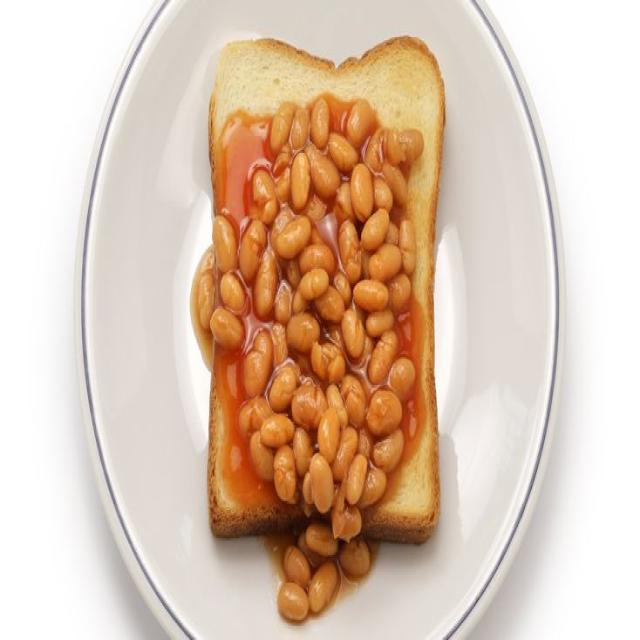beans: (243, 330, 272, 397), (306, 146, 340, 199), (253, 249, 278, 318), (239, 220, 266, 282), (292, 382, 327, 429), (368, 330, 398, 384), (367, 390, 401, 435), (275, 217, 311, 259), (252, 169, 279, 225), (309, 562, 338, 613), (311, 342, 346, 383), (332, 427, 358, 482), (211, 308, 245, 350), (339, 220, 361, 284), (213, 215, 237, 273), (310, 453, 333, 513), (243, 350, 272, 397), (239, 396, 272, 437), (269, 365, 298, 411), (373, 429, 403, 473), (347, 99, 375, 146), (274, 446, 297, 503), (350, 164, 373, 221), (286, 313, 319, 352), (270, 103, 295, 154), (341, 375, 366, 426), (318, 407, 340, 463), (278, 582, 309, 621), (340, 538, 370, 578), (369, 245, 402, 281), (291, 152, 311, 211), (361, 209, 389, 251), (329, 133, 358, 173), (299, 243, 335, 275), (341, 308, 364, 358), (260, 415, 294, 448), (306, 523, 338, 558), (250, 432, 273, 480), (382, 163, 407, 207), (284, 546, 310, 588), (389, 358, 415, 400), (359, 469, 387, 508), (354, 280, 388, 312), (315, 286, 344, 323), (332, 506, 361, 542), (347, 453, 367, 505), (270, 206, 295, 247), (220, 273, 245, 312), (326, 384, 348, 428), (293, 429, 313, 477), (399, 220, 416, 275), (198, 273, 214, 330), (298, 532, 324, 567), (311, 98, 329, 148), (299, 268, 328, 299), (334, 183, 355, 224), (389, 274, 410, 313), (365, 129, 383, 173), (274, 280, 292, 324), (400, 129, 423, 162), (366, 310, 394, 337), (291, 109, 309, 149), (384, 129, 404, 165), (272, 143, 292, 176), (272, 324, 287, 366), (374, 177, 393, 210), (334, 273, 351, 307), (305, 195, 326, 221), (357, 334, 374, 366), (198, 245, 215, 275), (332, 483, 346, 519), (276, 167, 290, 202), (358, 429, 373, 459), (327, 325, 344, 350), (286, 260, 300, 289), (302, 472, 313, 507), (293, 288, 308, 313), (385, 222, 399, 244), (362, 249, 371, 279), (310, 225, 323, 244)
sliced bread: (209, 37, 445, 286), (208, 377, 301, 536), (364, 373, 439, 543)
